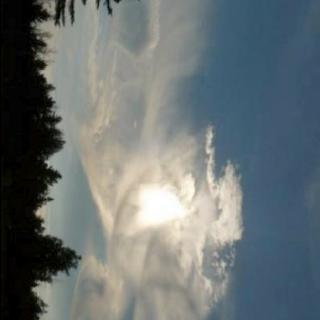Altocumulus: (56, 0, 247, 320)
